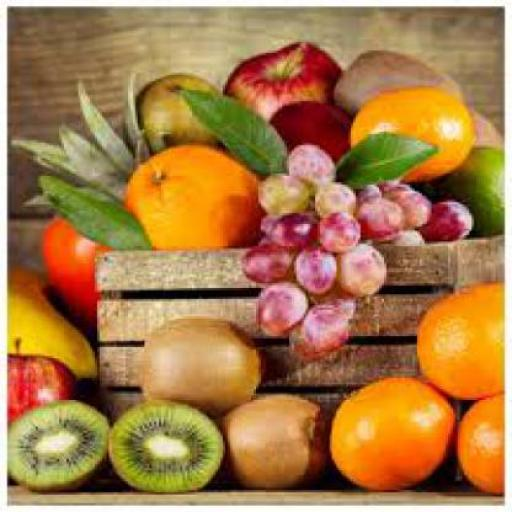biodegradable: (7, 68, 147, 204), (328, 374, 456, 490), (121, 140, 261, 246), (346, 83, 470, 183), (8, 257, 98, 384), (106, 396, 224, 490), (140, 316, 262, 406), (218, 389, 325, 486), (414, 277, 500, 397), (176, 86, 288, 172), (222, 40, 342, 120), (7, 396, 106, 490), (38, 174, 152, 248), (337, 46, 457, 114), (40, 213, 111, 327), (132, 70, 218, 145), (334, 130, 439, 189), (6, 336, 76, 422), (439, 143, 500, 235), (452, 395, 503, 495), (270, 97, 347, 163), (254, 278, 306, 332), (298, 301, 349, 351), (351, 193, 401, 244), (337, 242, 382, 295), (294, 242, 336, 292), (384, 185, 430, 229), (237, 242, 290, 280), (422, 200, 472, 239), (255, 168, 306, 206), (259, 208, 315, 242), (287, 140, 332, 178), (465, 105, 500, 150), (320, 209, 358, 248), (312, 279, 356, 312), (284, 320, 320, 358), (312, 180, 350, 215), (350, 182, 382, 204)
